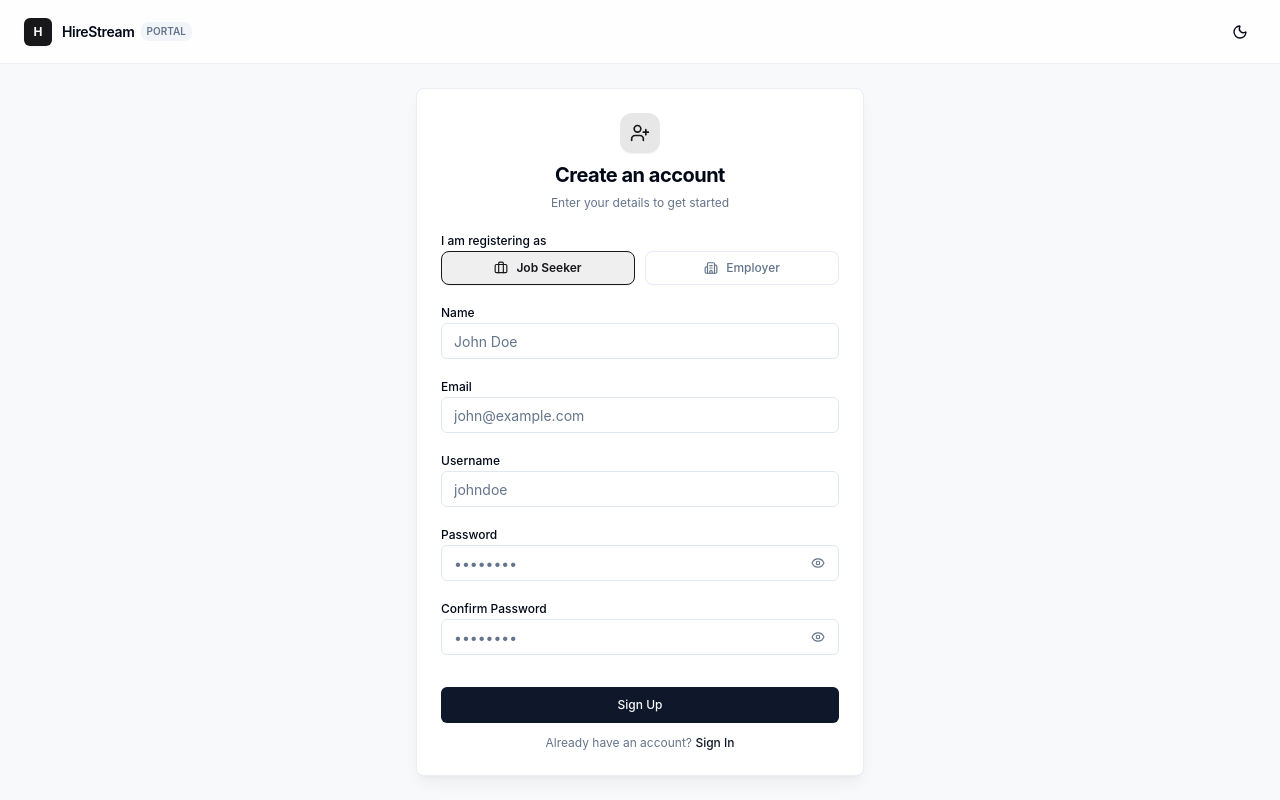
Scenario: RegisterPage › transitions to OTP verification step and allows submitting code
The width and height of the screenshot is (1280, 800).
Type "Jane Doe" into the field labelled "Name" at (640, 341), box [441,323,839,359]
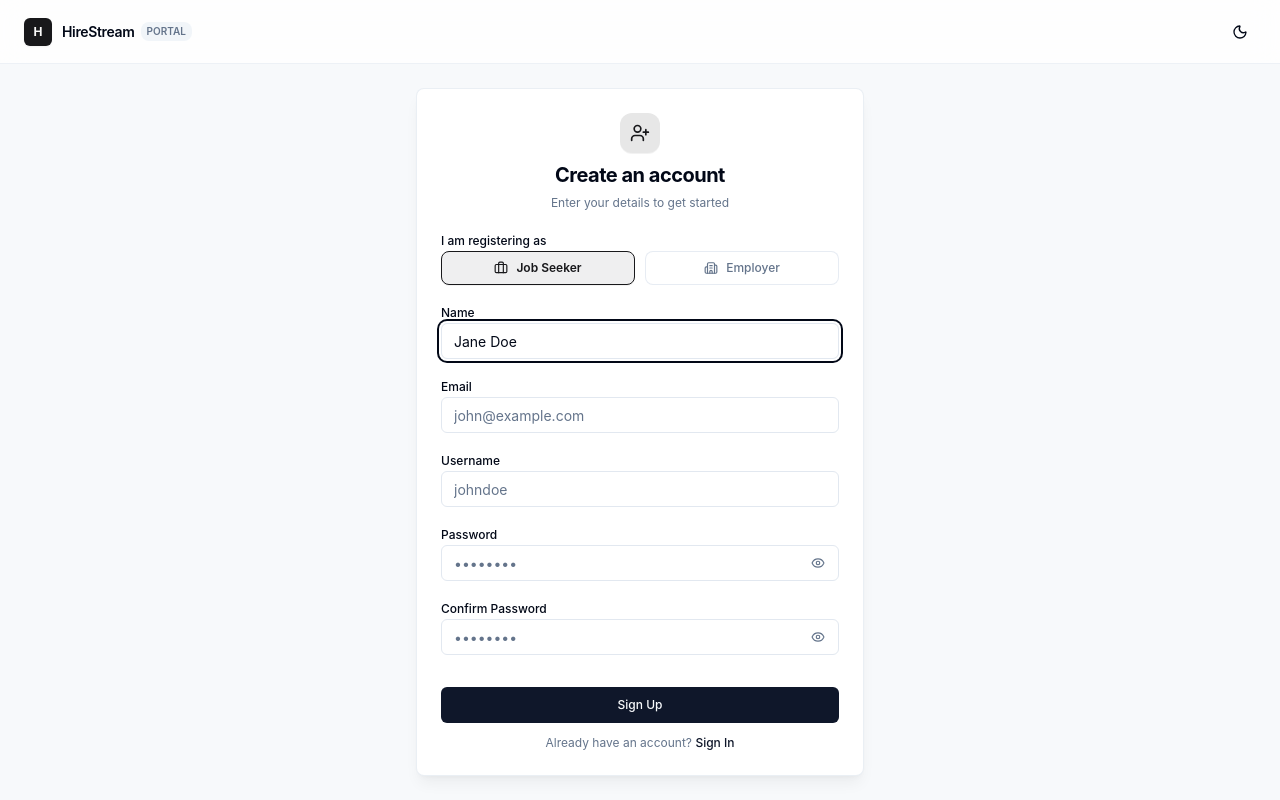
Type "jane@example.com" into the field labelled "Email" at (640, 415), box [441,397,839,433]
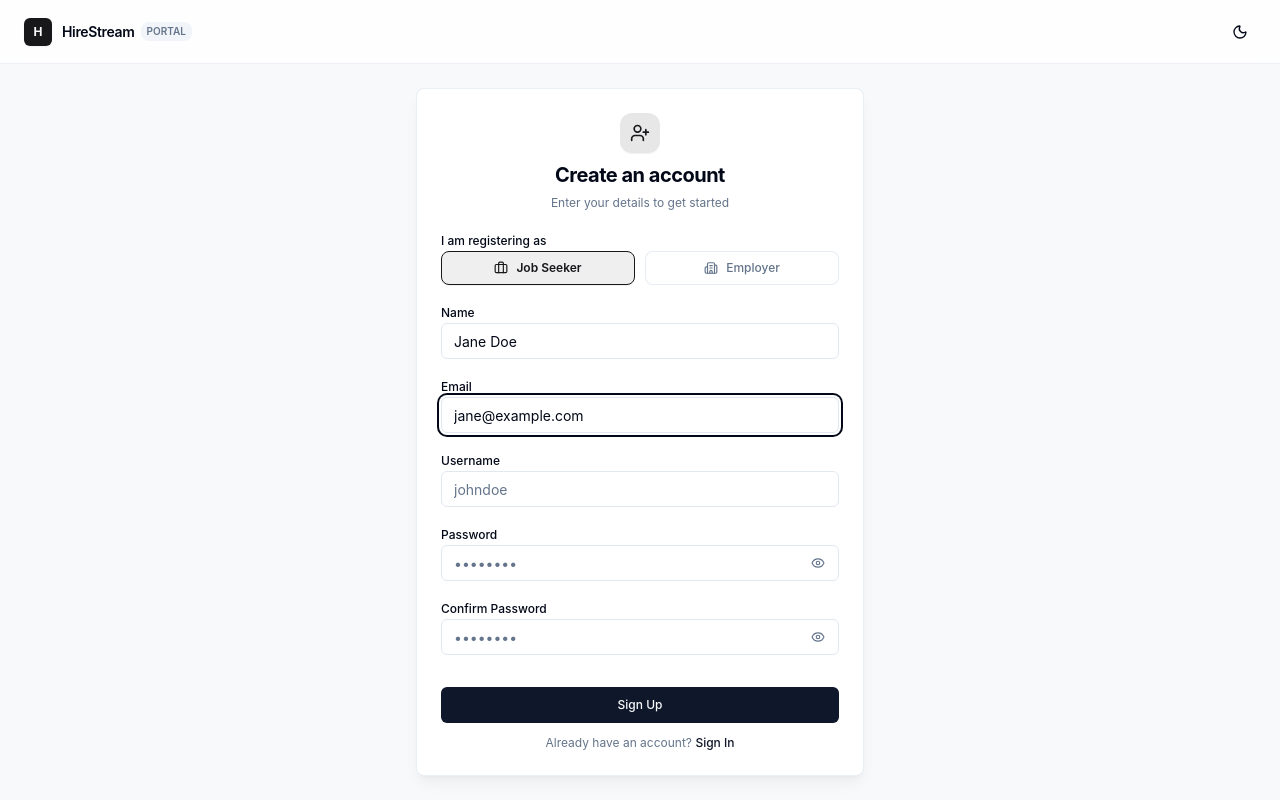
Type "janedoe" into the field labelled "Username" at (640, 489), box [441,471,839,507]
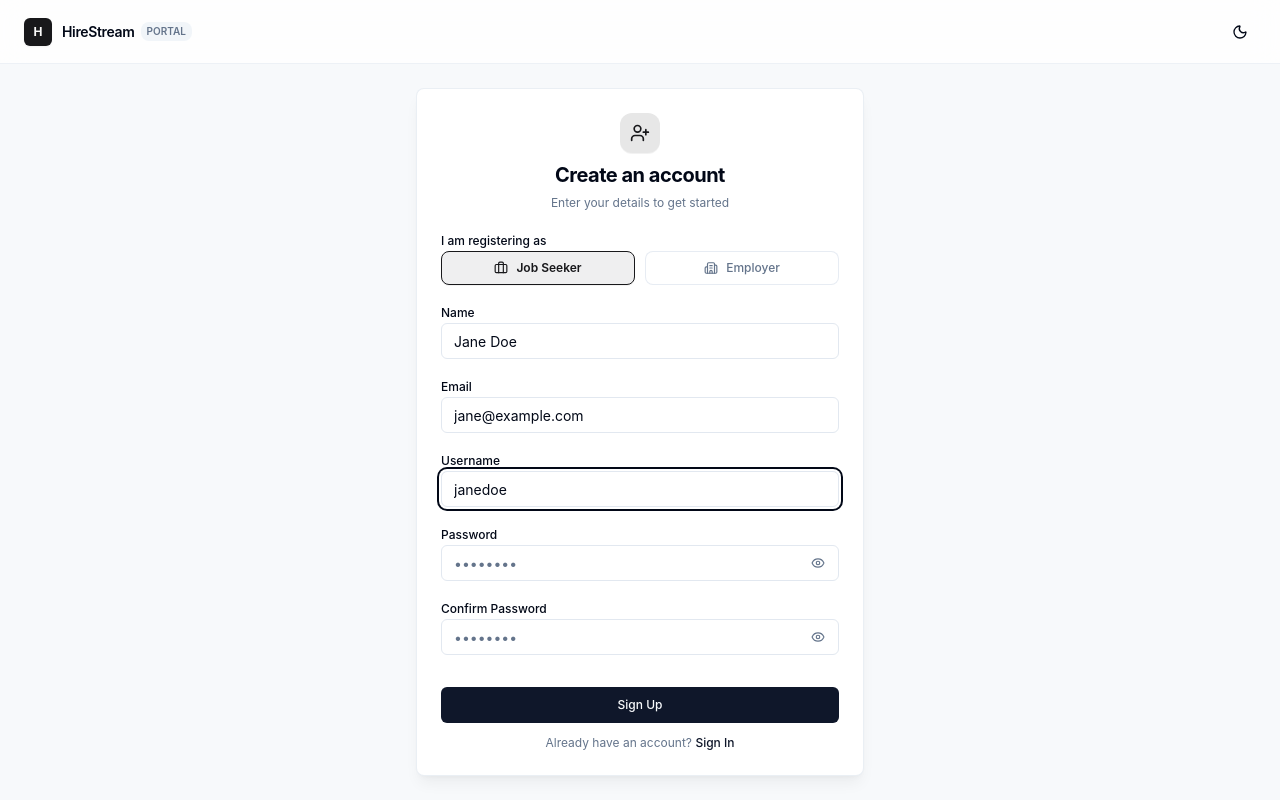
Type "password123" into the password field labelled "Password" at (640, 563), box [441,545,839,581]
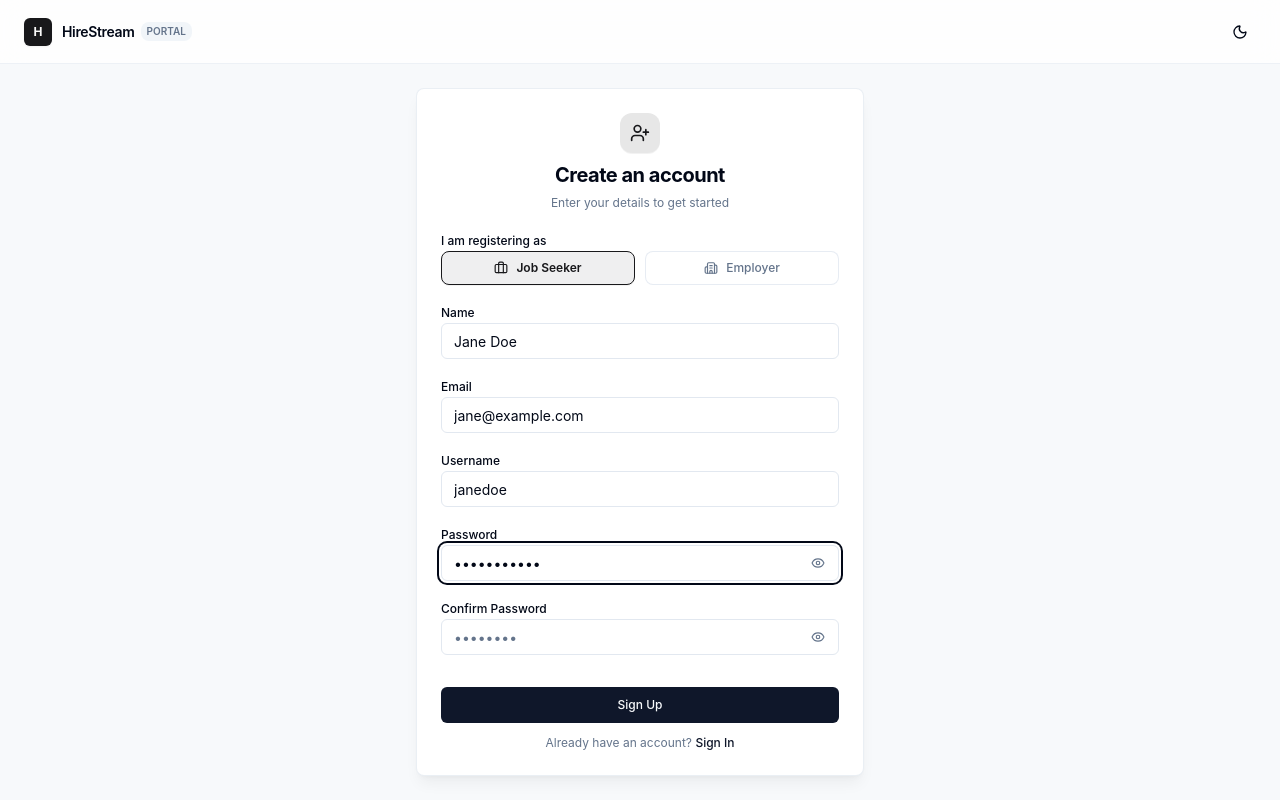
Type "password123" into the password field labelled "Confirm Password" at (640, 637), box [441,619,839,655]
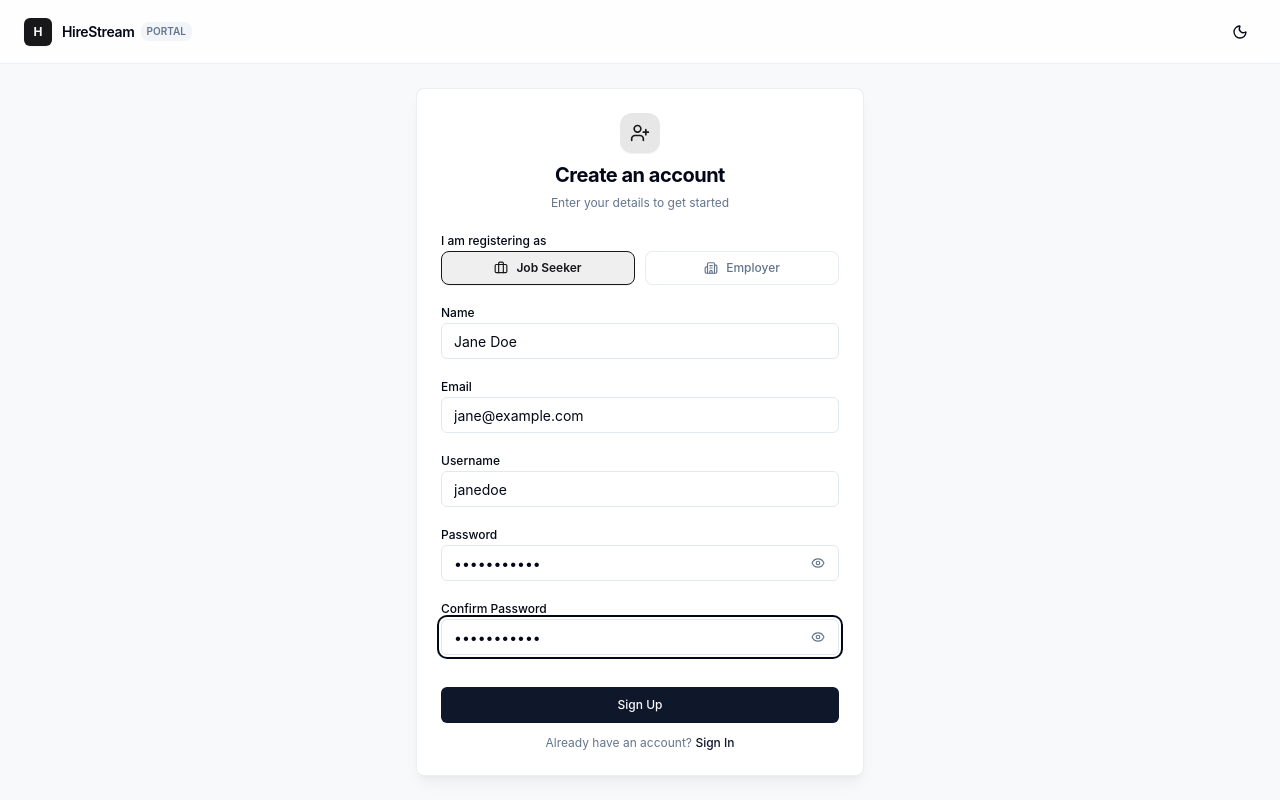
Click the button "Sign Up" at (640, 705), box [441,687,839,723]
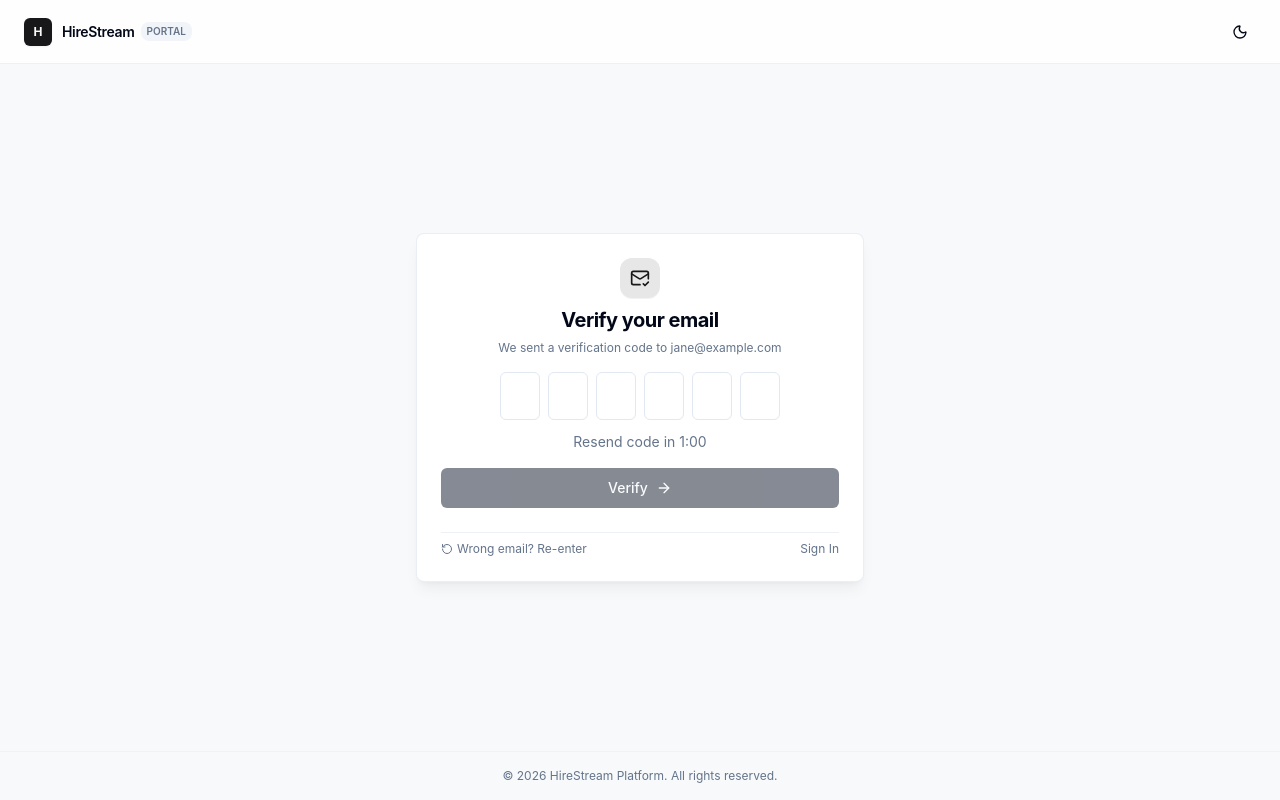
Expected: the heading "Verify your email" is shown, [561,308,719,332]
Expected: the button "Verify" is disabled, [441,468,839,508]
